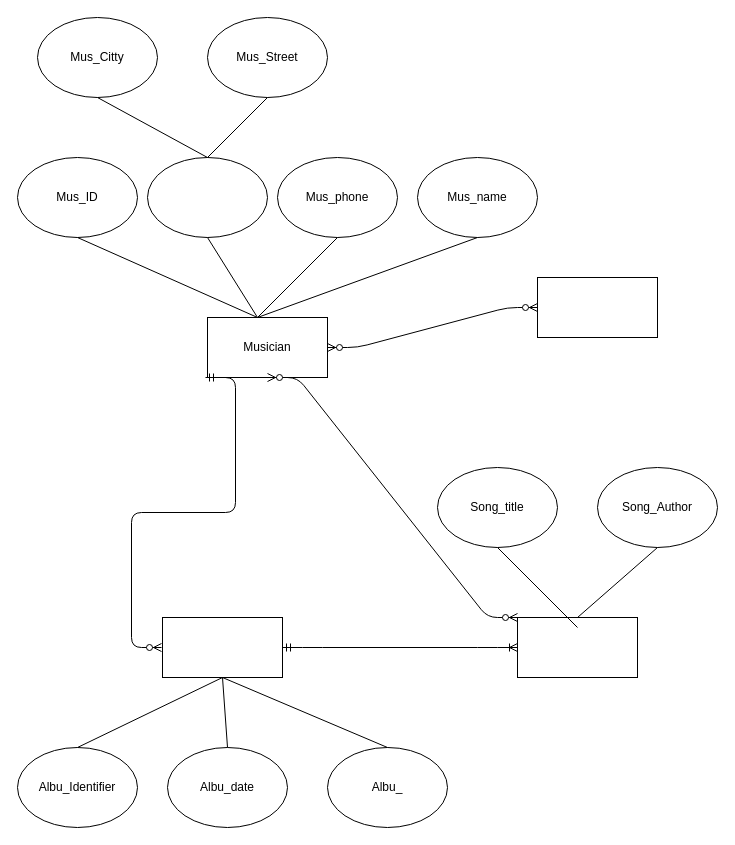
Image size: 735x845. Some labels were removed from this diagram. The centre of each missing label's shape, as x and y in pixels:
Album: point (222, 647)
Instrument: point (597, 307)
Mus_Addredd: point (207, 197)
Song: point (577, 647)
